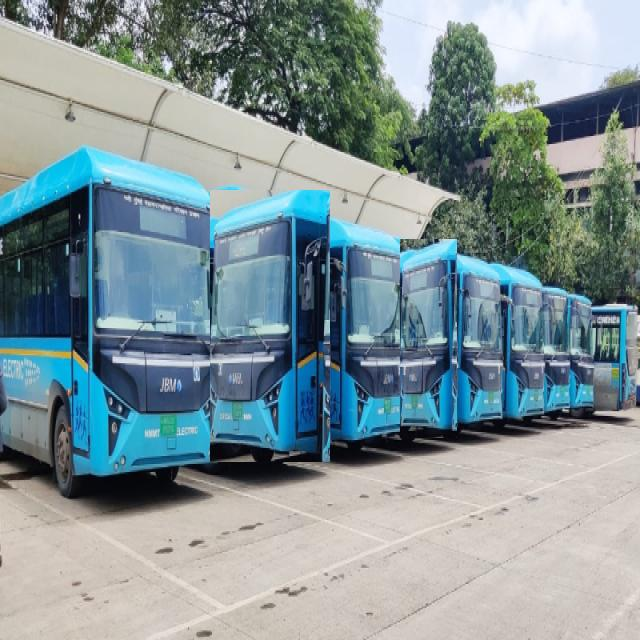bus: (0, 148, 215, 494), (210, 190, 330, 462), (324, 218, 405, 450), (401, 240, 457, 438)
